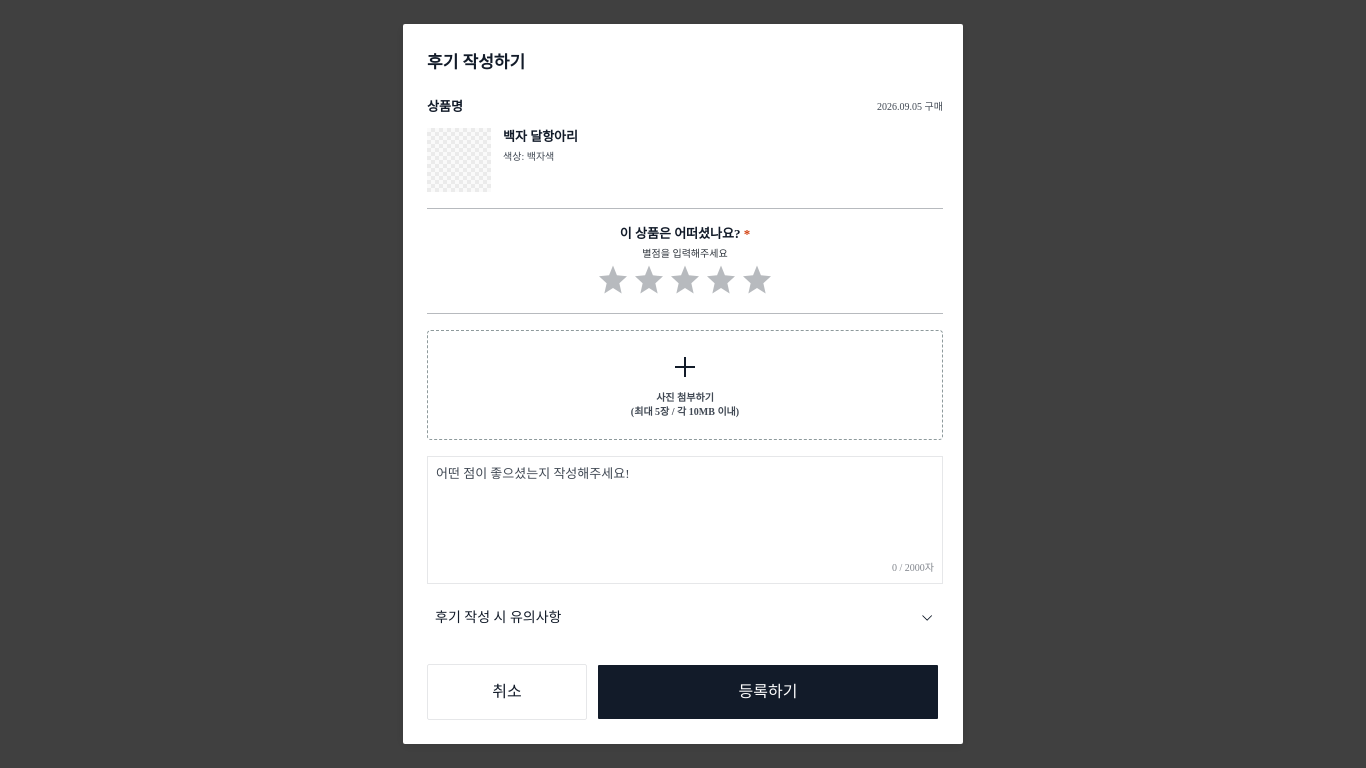
Test case: ReviewFormModal › 별점을 고르고 본문을 비운 채 제출하면 등록되지 않는다(BE `@NotBlank` 계약)
Click the button with test id "review-rating-star-4". click: point(757, 281)
box: [741, 265, 773, 297]
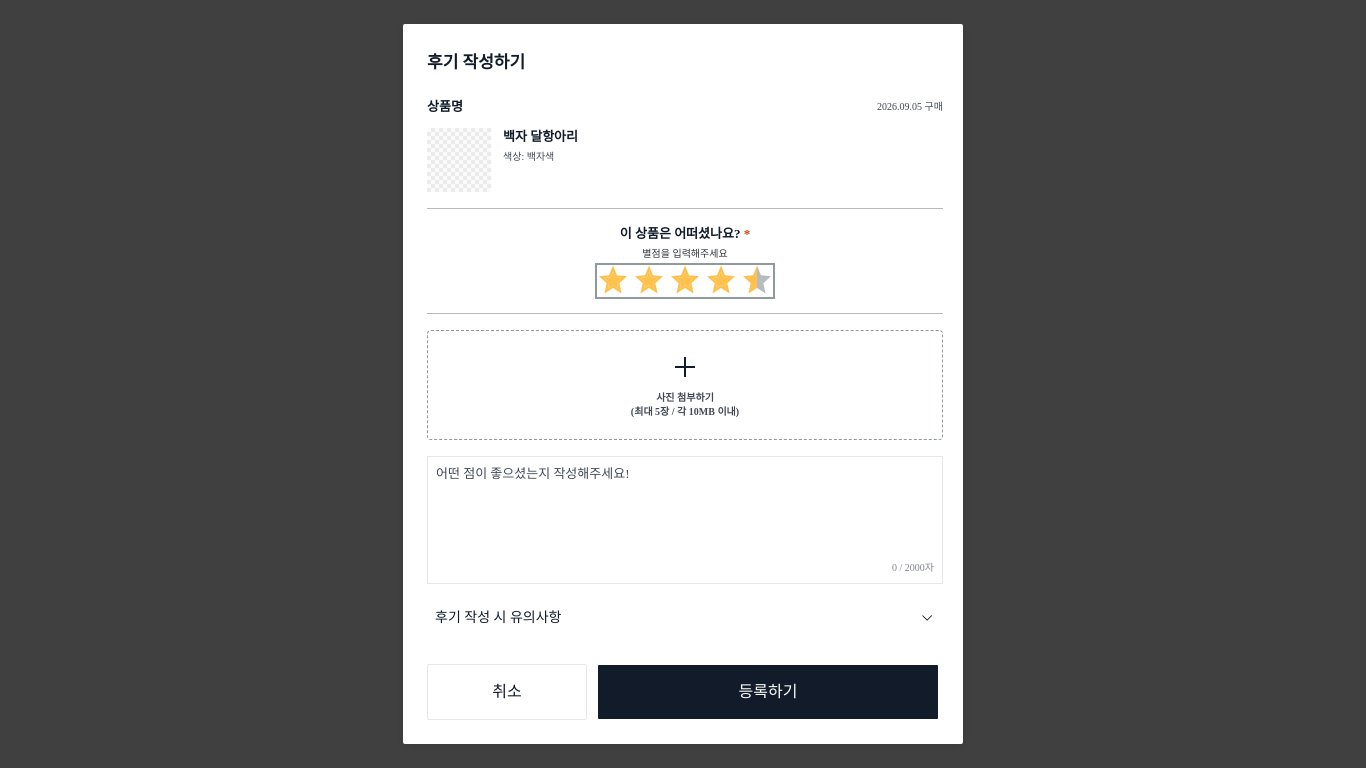
Click the button "등록하기". click: point(768, 692)
box: [597, 664, 939, 720]
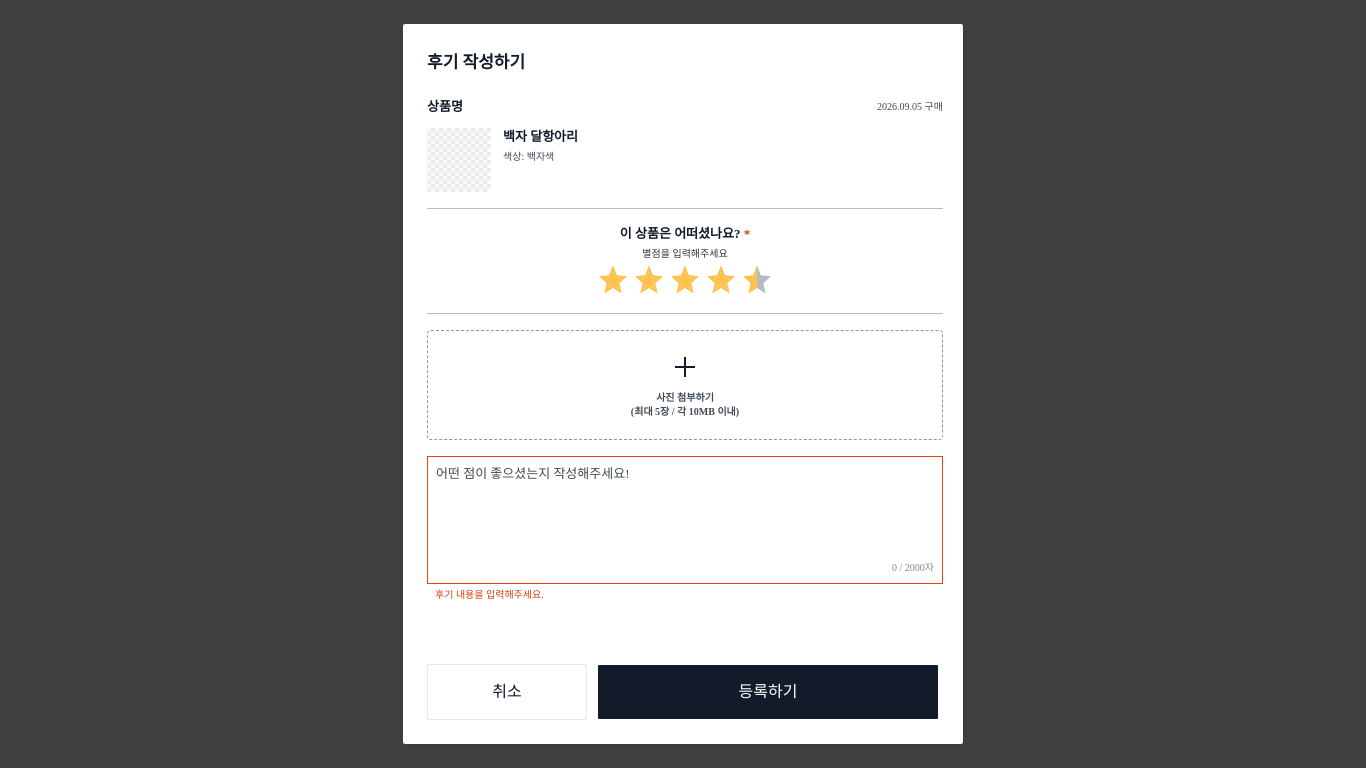
Expected: the text "후기 내용을 입력해주세요." is shown, [435, 589, 544, 600]
